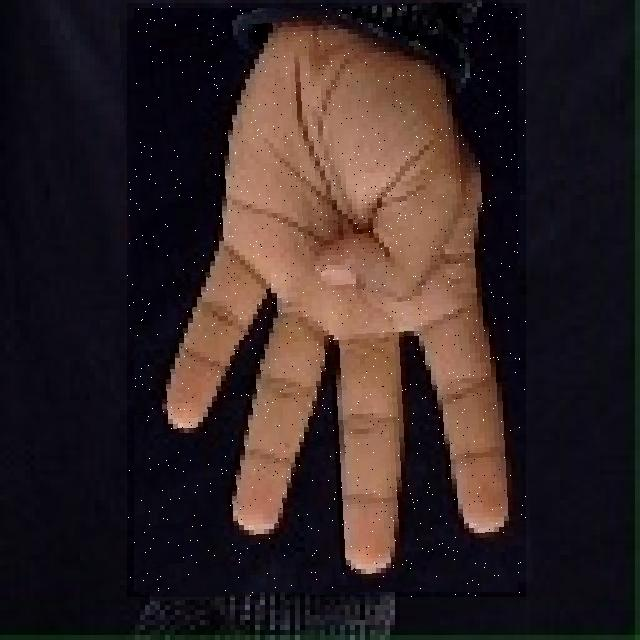Thanks: (127, 3, 526, 597)
